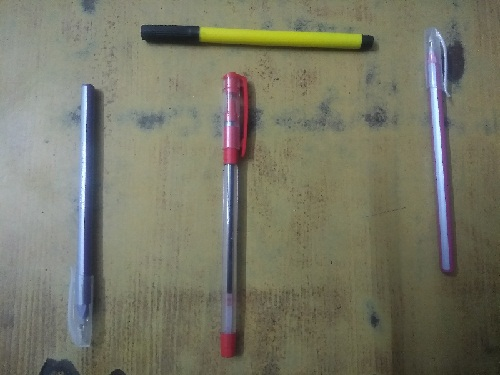pen: (416, 21, 467, 278), (214, 68, 253, 361), (129, 16, 384, 56), (67, 77, 103, 352)
